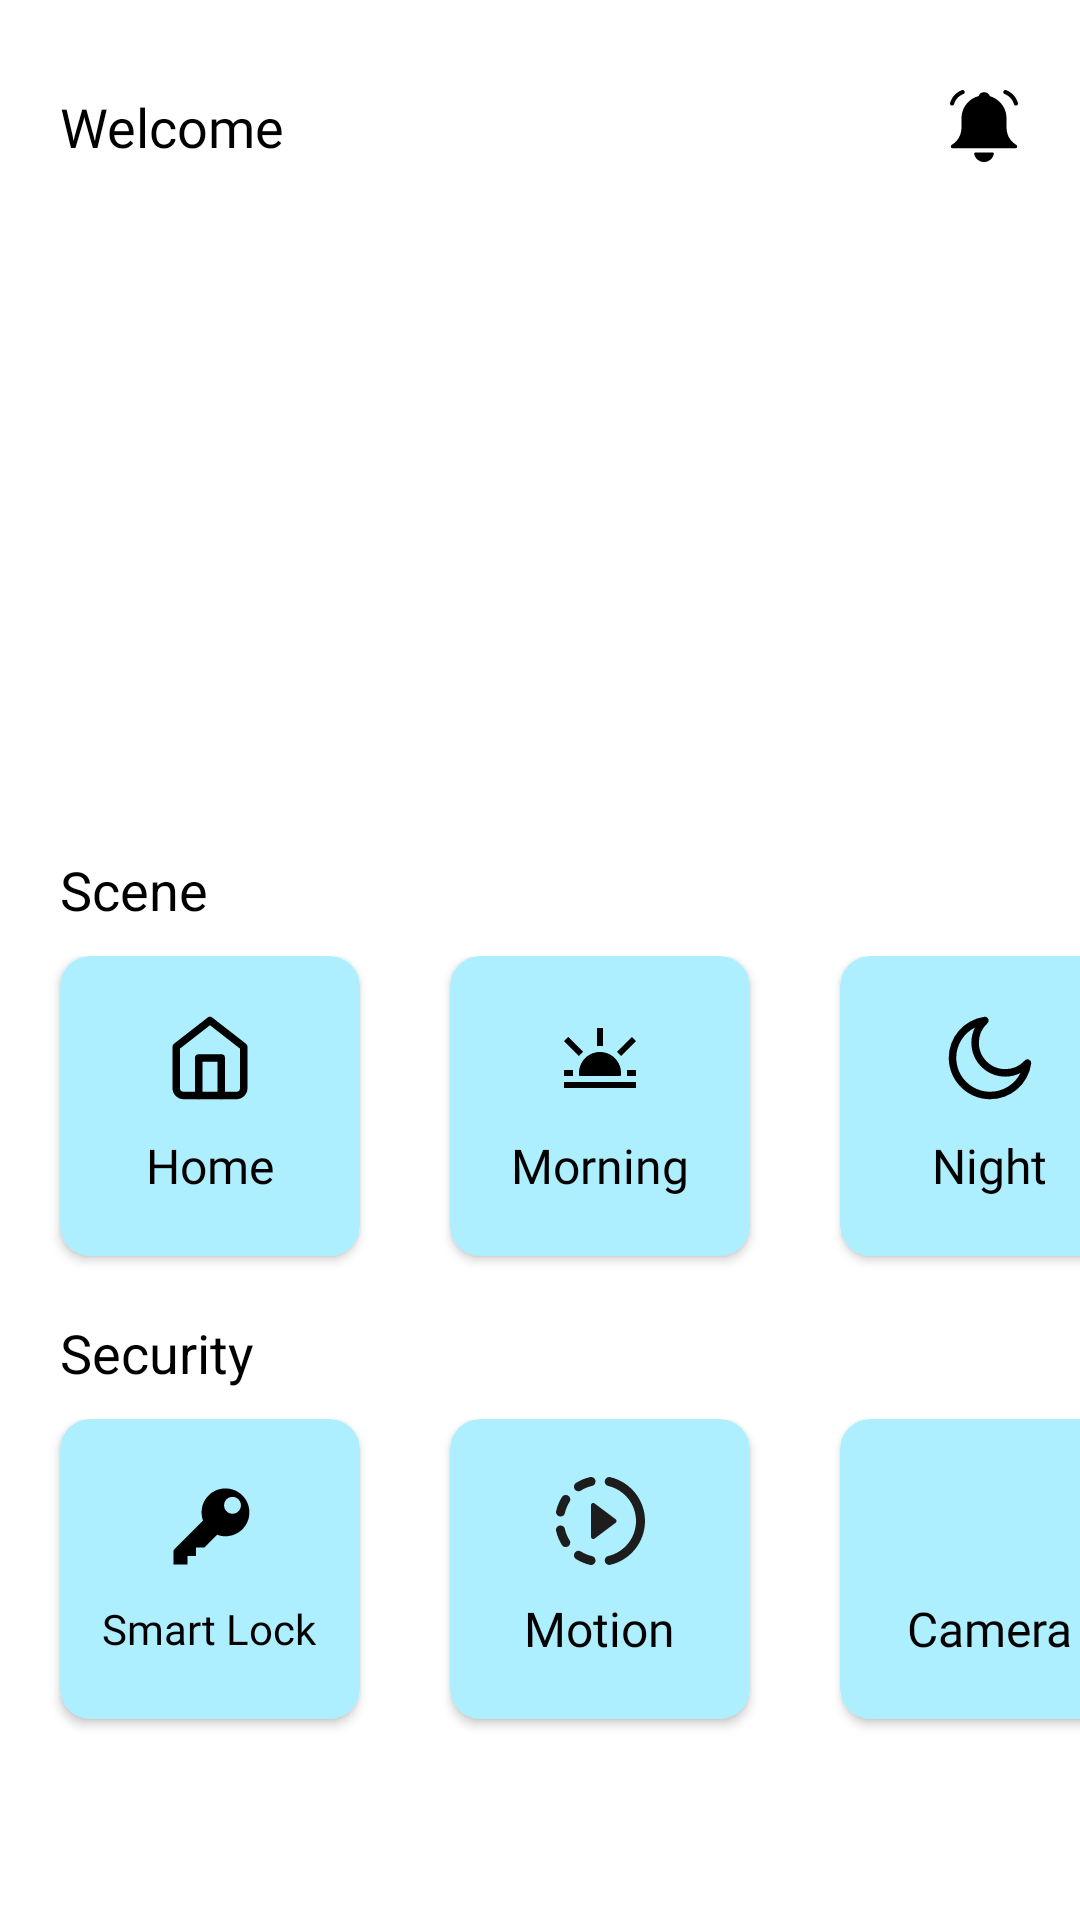

Point at icon controls on the screen. Image size 1080w x 1920h, points as (x,y).
key: (211,1526)
notification: (984,126)
